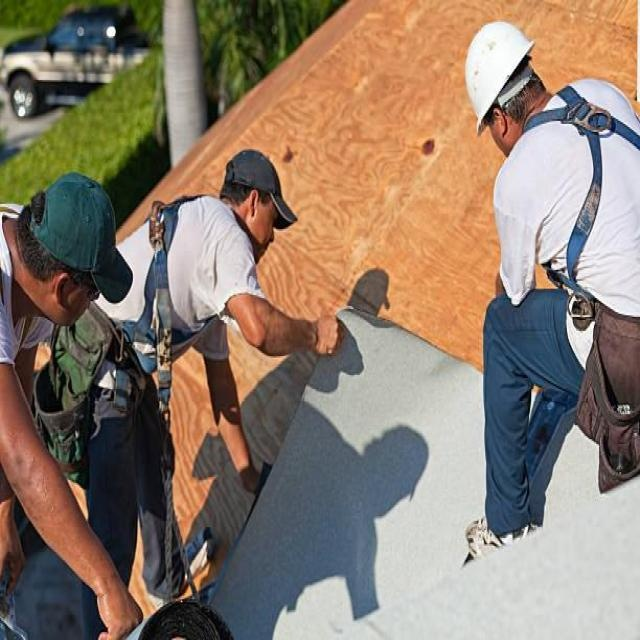Arnes_seguridad: (521, 63, 640, 378), (79, 190, 217, 395)
